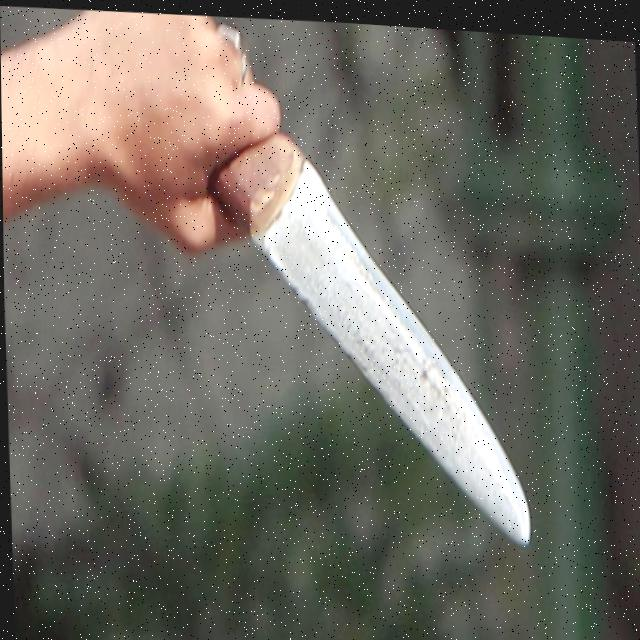knife: (232, 132, 528, 547)
